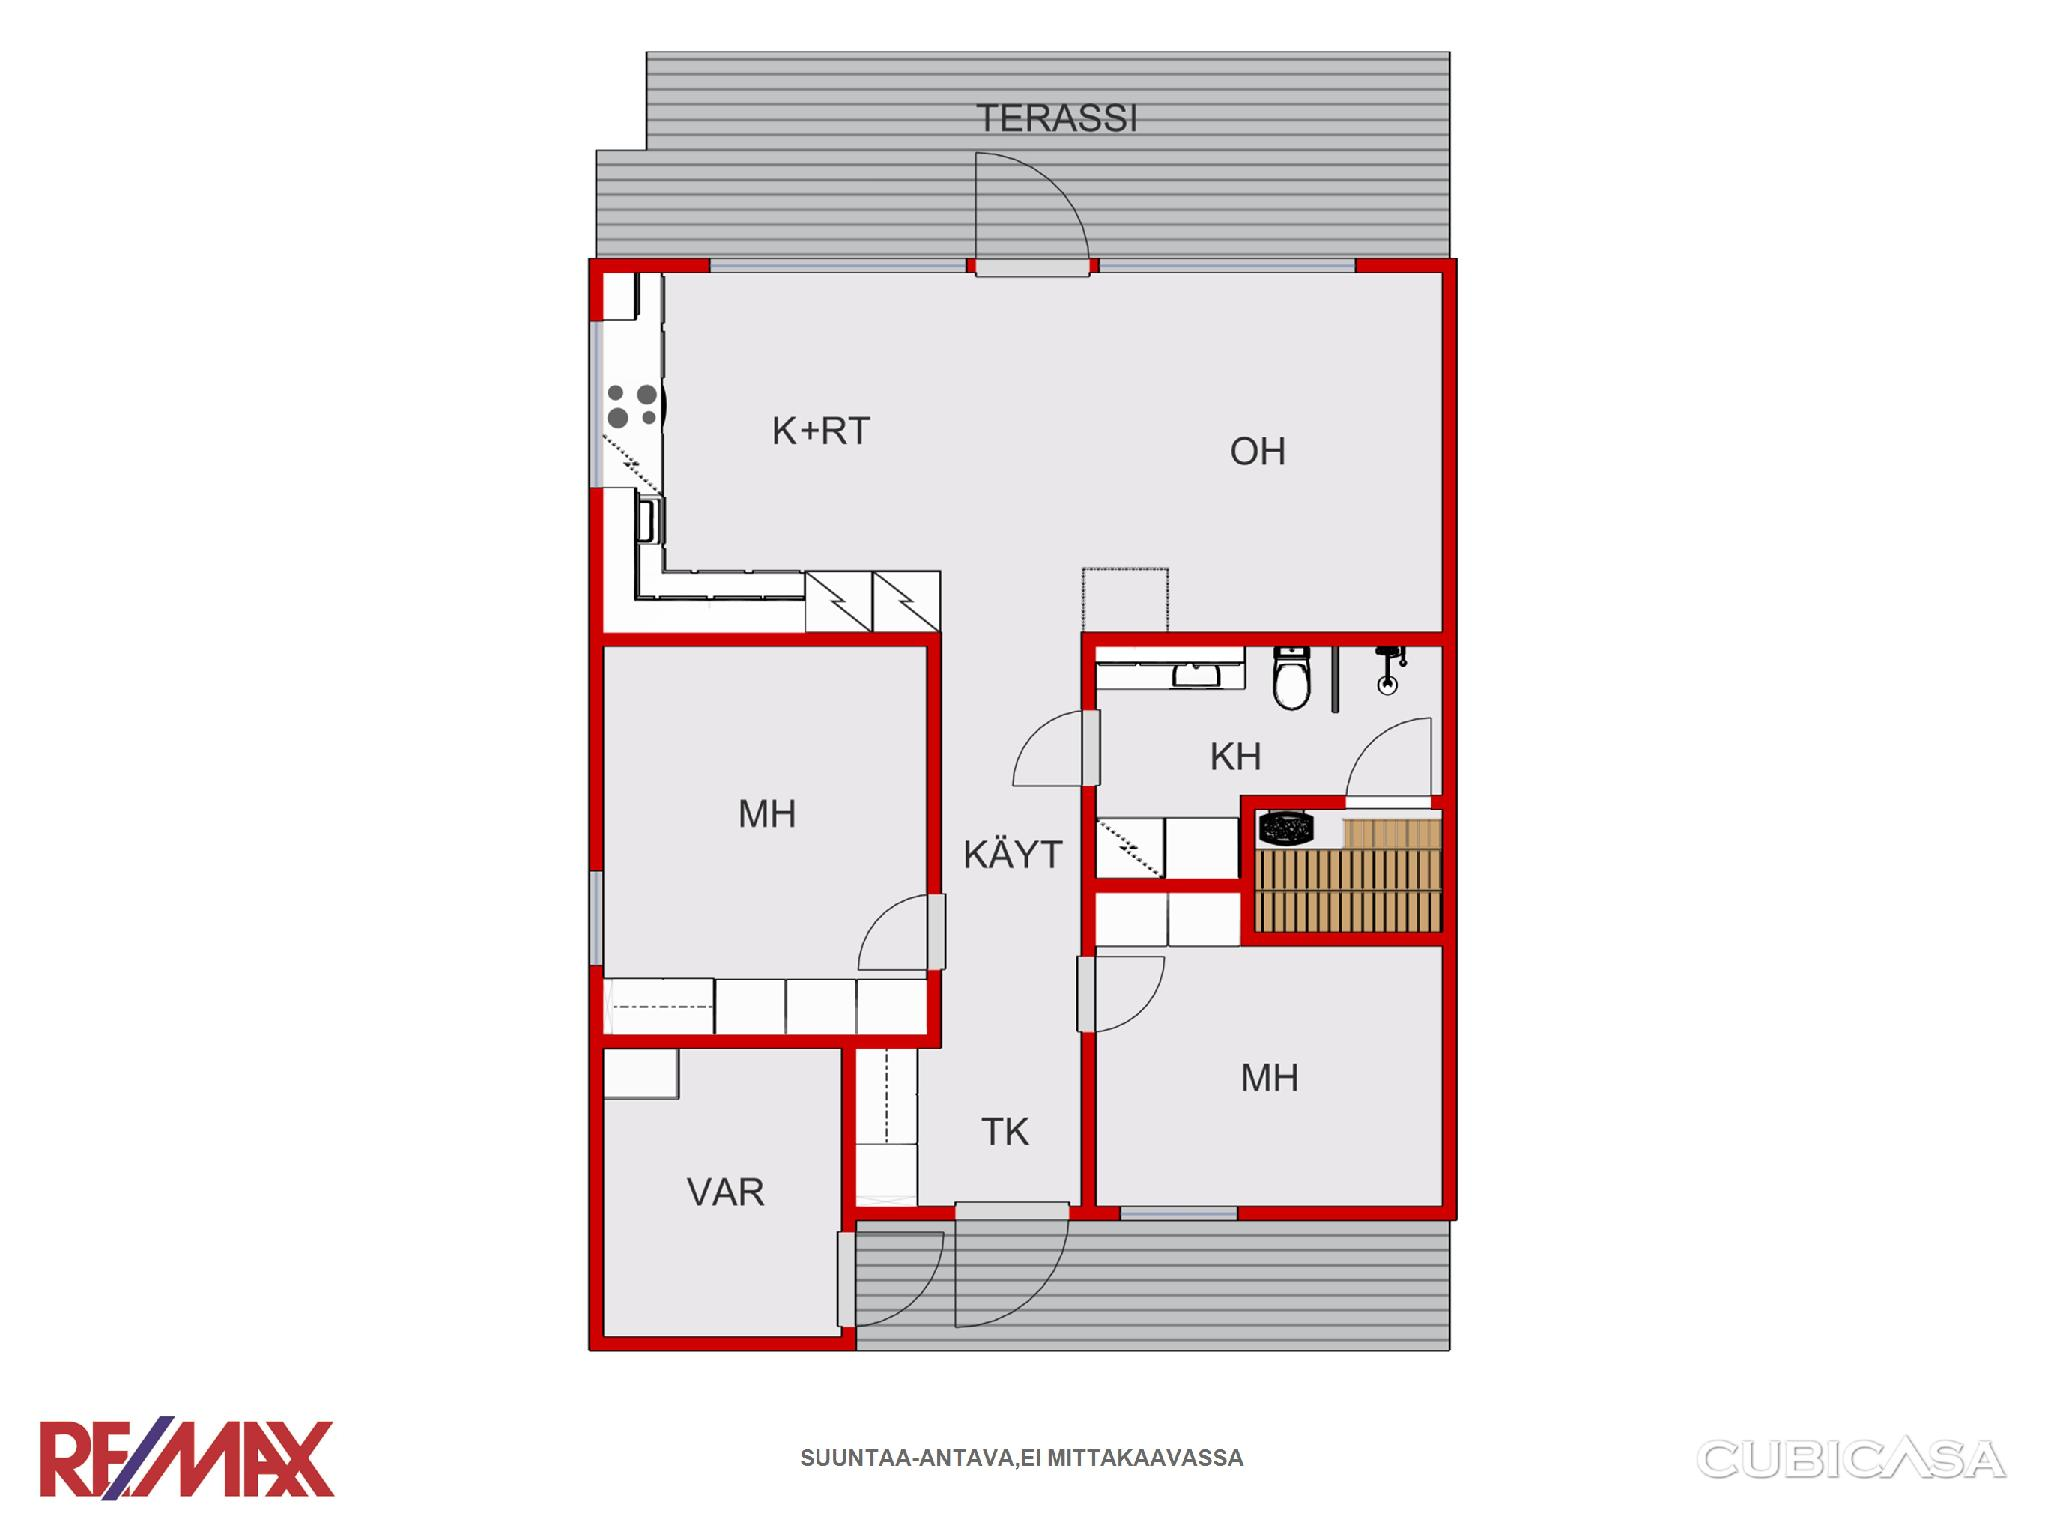door: (965, 140, 1089, 282), (956, 1202, 1073, 1323), (835, 1229, 948, 1329), (1010, 707, 1114, 794), (851, 896, 954, 980), (1349, 712, 1439, 806), (1075, 952, 1164, 1034)
window: (1089, 248, 1352, 280), (707, 251, 964, 271), (585, 322, 608, 483), (585, 873, 611, 986), (1115, 1204, 1231, 1223)
zone: (604, 271, 1450, 1199), (596, 52, 1446, 248), (599, 641, 923, 1033), (1093, 641, 1436, 941), (857, 1213, 1452, 1358), (1097, 956, 1436, 1197), (603, 1046, 840, 1337)
